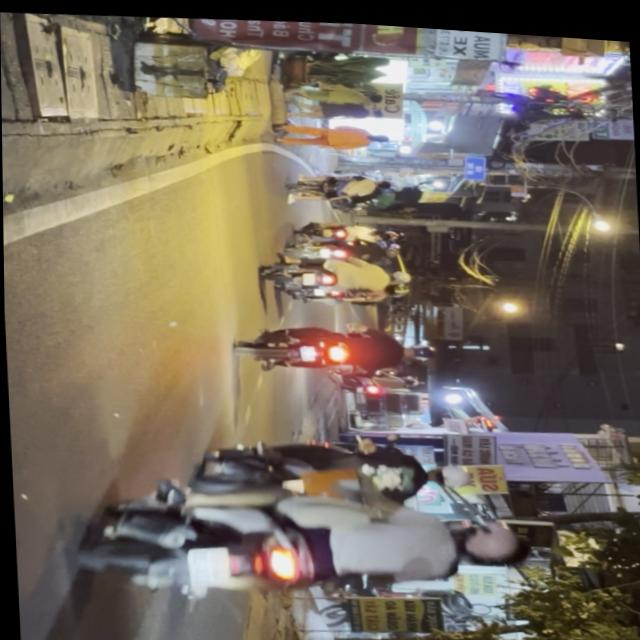helmet: (450, 512, 522, 560), (425, 456, 470, 484)
licenseplate: (69, 460, 531, 619), (189, 422, 473, 515)
nohelmet: (187, 542, 228, 585)
